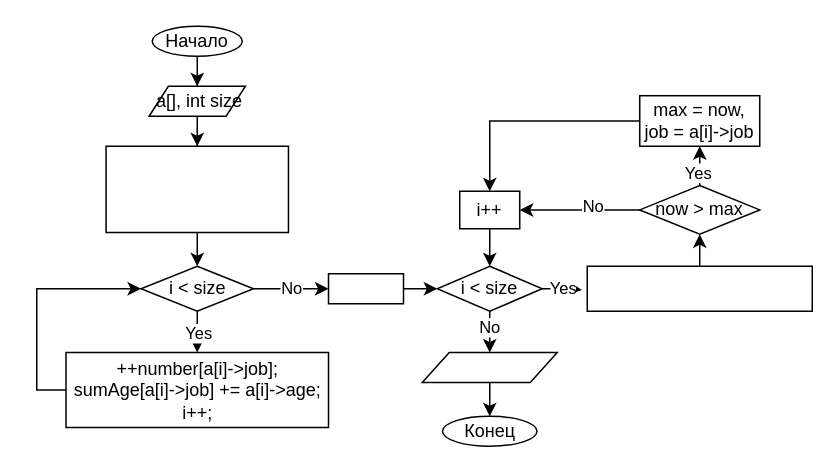
Some shapes in this 839 by 473 pixel diagram are drawn without their labels. The centre of each missing label's shape, as x and y in pixels:
coutJob(job): [489,366]
i = 0: [365,288]
now = sumAge[a[i]->job] / number[a[i]->job]: [699,288]
sumAge[4] = {0}, number[4] = {0}, max = 0, now = 0, job = 0, i = 0: [196,188]
